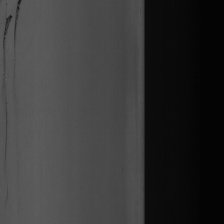inclusion: (0, 12, 11, 124), (11, 0, 21, 67)
